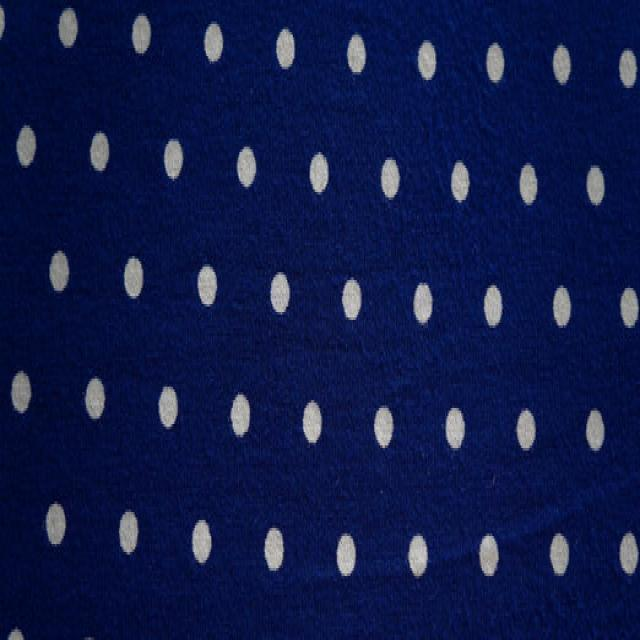Hole: (10, 371, 31, 414), (230, 394, 251, 437), (84, 378, 105, 420), (45, 504, 66, 546), (517, 410, 538, 452), (270, 272, 291, 314), (264, 529, 284, 573), (192, 521, 212, 565), (197, 265, 218, 306), (374, 407, 395, 448), (15, 125, 36, 166), (337, 535, 357, 578), (118, 512, 138, 555), (158, 387, 178, 430), (163, 139, 184, 179), (237, 146, 257, 188), (480, 536, 500, 578), (48, 251, 69, 291), (409, 536, 429, 578), (303, 402, 323, 444), (551, 534, 571, 576), (446, 408, 466, 450), (587, 410, 607, 452), (414, 283, 434, 325), (310, 152, 330, 193), (381, 158, 401, 199), (342, 279, 362, 320), (197, 265, 217, 306), (485, 285, 504, 328), (621, 533, 640, 576), (347, 33, 367, 73), (58, 7, 78, 47), (89, 131, 109, 171), (131, 13, 151, 53), (487, 42, 506, 83), (452, 161, 471, 202), (124, 257, 143, 298), (276, 28, 295, 69), (520, 163, 539, 204), (554, 287, 573, 327), (554, 44, 573, 83), (204, 22, 223, 61), (620, 48, 639, 87), (419, 40, 437, 80), (588, 166, 606, 205), (622, 288, 640, 327), (6, 629, 24, 640)
